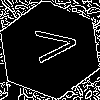V: (25, 25, 79, 65)
